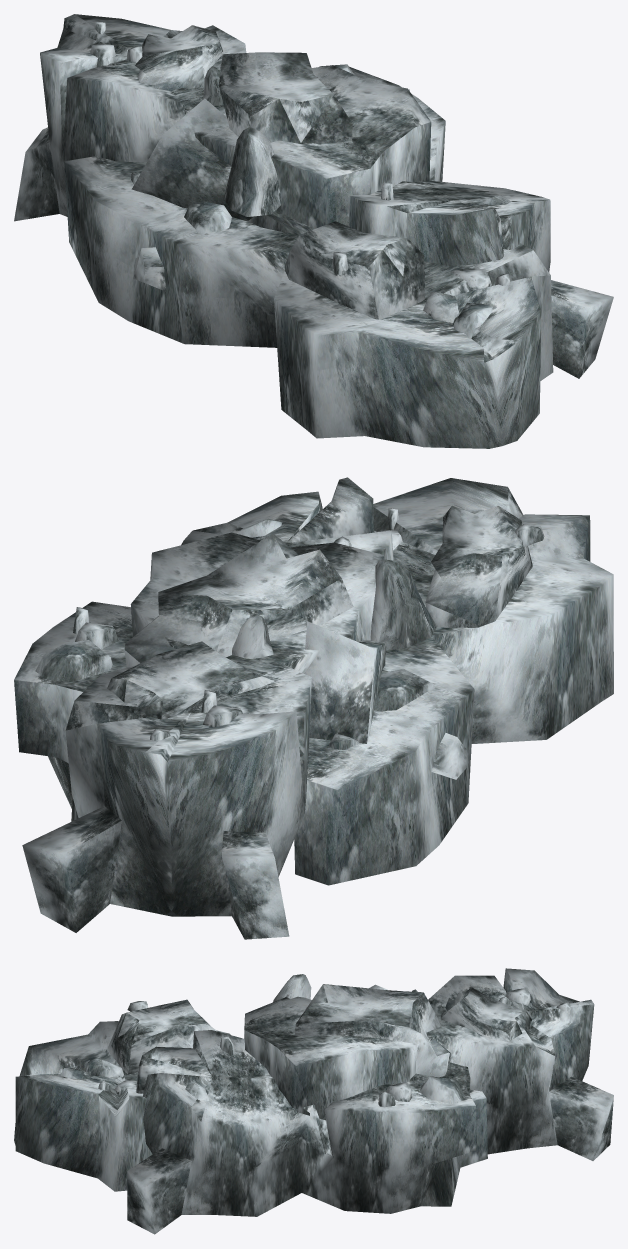
File: S_Rock_White048.FBX
3 views of the same model, one above another, from view 1: azimuth 30°, elevation 25°; view 2: azimuth 150°, elevation 25°; view 3: azimuth 270°, elevation 25° (orthographic). The views are drawn at different scales.
Parts seen in each view (by area): view 1: S_Rock_White048; view 2: S_Rock_White048; view 3: S_Rock_White048.
Boxes of the visible parts, x1,y1,x2,y2 form: S_Rock_White048: (14, 14, 613, 448); S_Rock_White048: (14, 477, 613, 939); S_Rock_White048: (14, 968, 613, 1234).
Size of the model in its own units: 620 by 1216 by 395.
